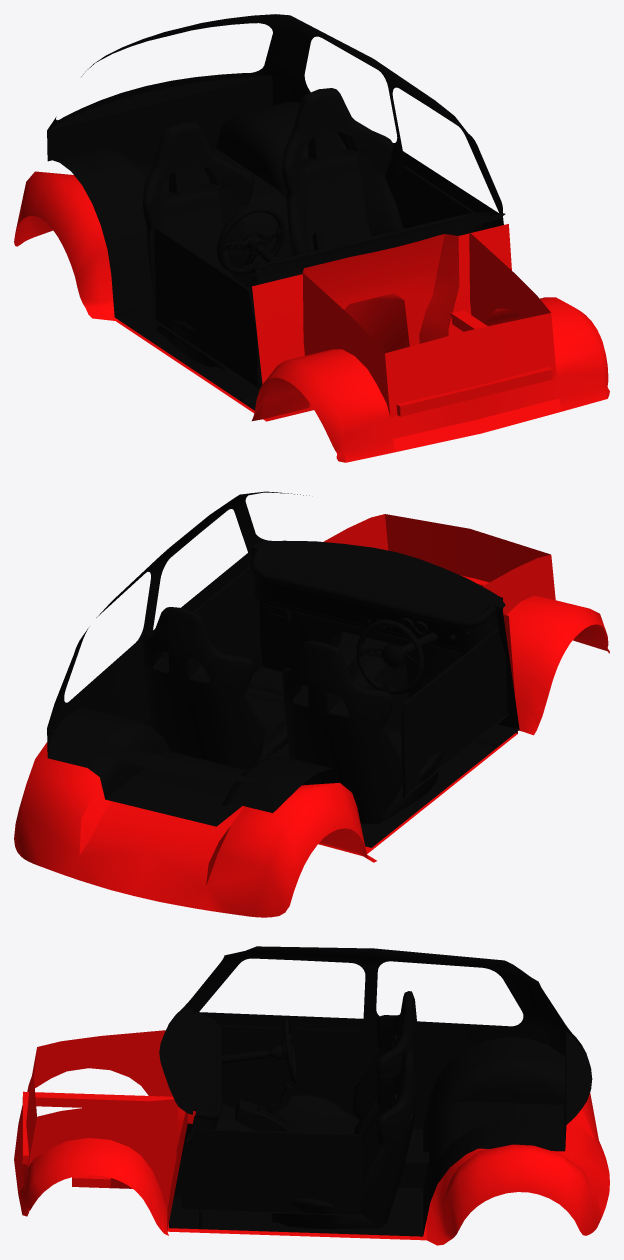
File: Mini_Chassis_Trim.fbx
3 views of the same model, one above another, from view 1: azimuth 30°, elevation 25°; view 2: azimuth 150°, elevation 25°; view 3: azimuth 270°, elevation 25° (orthographic). The views are drawn at different scales.
Visible parts, largest first — view 1: Mini_Chassis_Trim; view 2: Mini_Chassis_Trim; view 3: Mini_Chassis_Trim.
Part boxes in pixels (x1=…): Mini_Chassis_Trim: x1=14, y1=14, x2=609, y2=462; Mini_Chassis_Trim: x1=14, y1=491, x2=609, y2=917; Mini_Chassis_Trim: x1=14, y1=946, x2=609, y2=1245.
Size of the model in its own units: 137 by 110 by 280.
